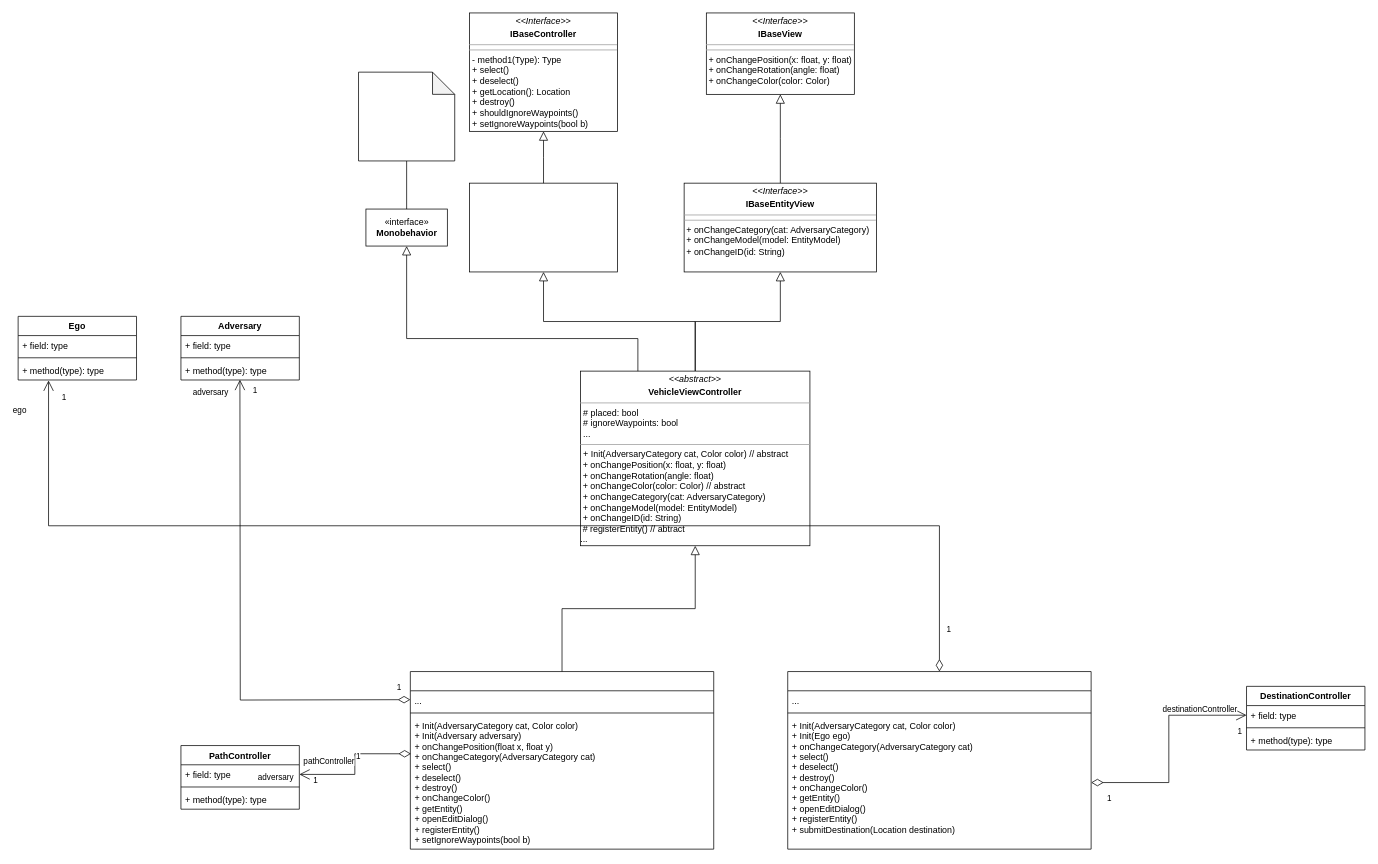
Image size: 1378x864. Some labels were removed from this diagram. The shapes that lost their labels are listed below. From the top down, each one's box as (x1, y1, x2, y2) in pixels, then its label:
(358, 71, 455, 161): Unity-related fields are excluded for all implementing classes
(469, 182, 618, 272): <<Interface>> IBaseEntityController + getEntity(): BaseEntity
(410, 671, 714, 849): AdversaryViewController
(787, 671, 1091, 849): EgoViewController
